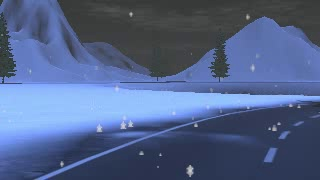Lane: (36, 102, 319, 179)
